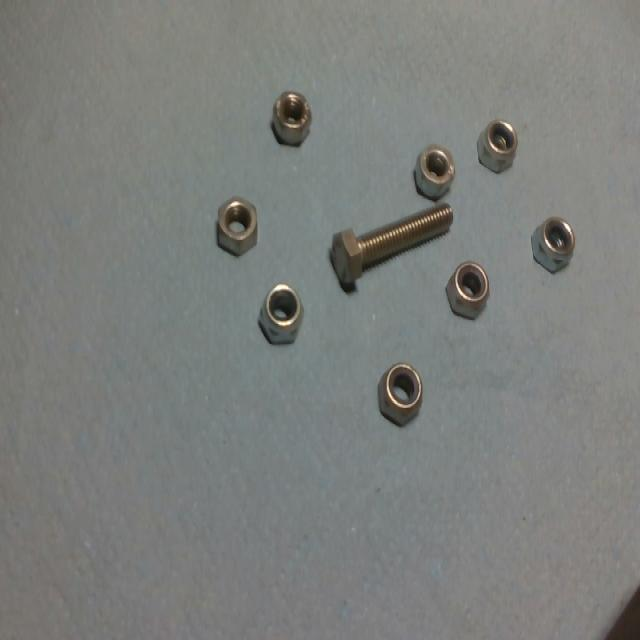Bolt: (330, 204, 453, 289)
Nut: (376, 361, 424, 429), (214, 192, 259, 257), (474, 116, 519, 177), (271, 85, 314, 147), (259, 284, 302, 345), (412, 144, 456, 201), (445, 263, 488, 320), (531, 217, 574, 272)
